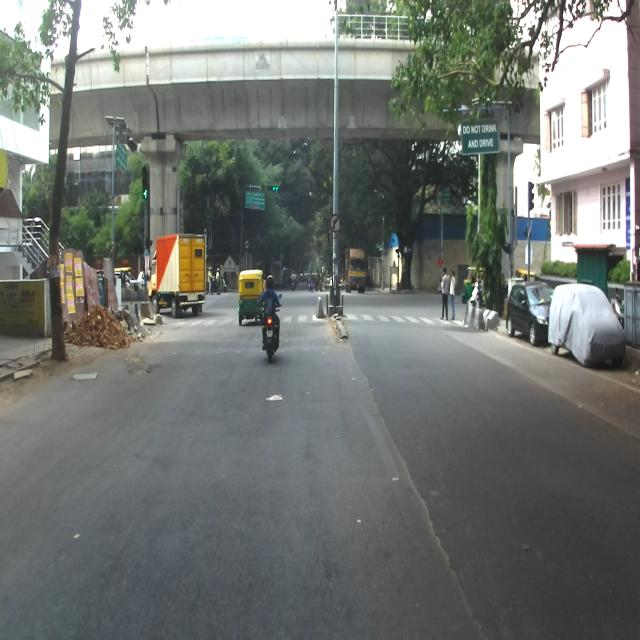auto ahead at: (234, 266, 268, 324)
tree ahead at: (38, 10, 85, 368)
truck ahead at: (147, 234, 214, 318)
